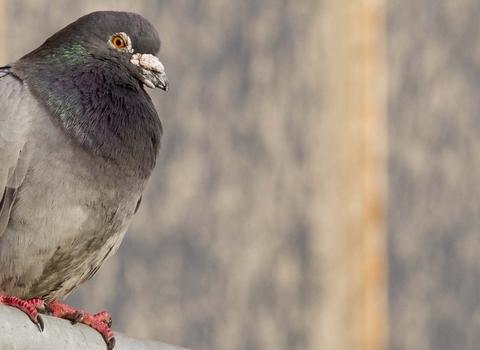Flying Rat: (1, 14, 182, 340)
